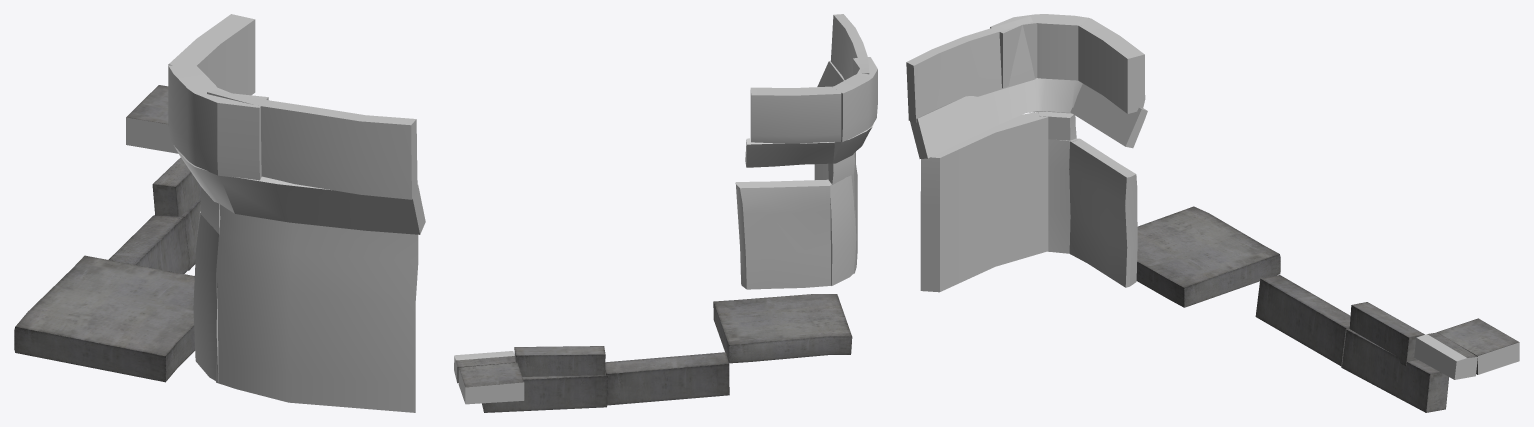
3 renders of one model, left to right at view 1: azimuth 30°, elevation 25°; view 2: azimuth 150°, elevation 25°; view 3: azimuth 270°, elevation 25°, orthographic. The views are drawn at different scales.
Visible parts, largest first — view 1: Cube.061; view 2: Cube.061; view 3: Cube.061.
Part boxes in pixels (box(x1,y1,x2,y2)): Cube.061: box(14, 14, 425, 412); Cube.061: box(454, 14, 877, 412); Cube.061: box(906, 14, 1519, 412).
Bounding box in the file's own units: 1109 × 956 × 1863.
